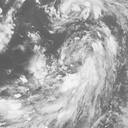cyclone: (37, 16, 119, 103)
